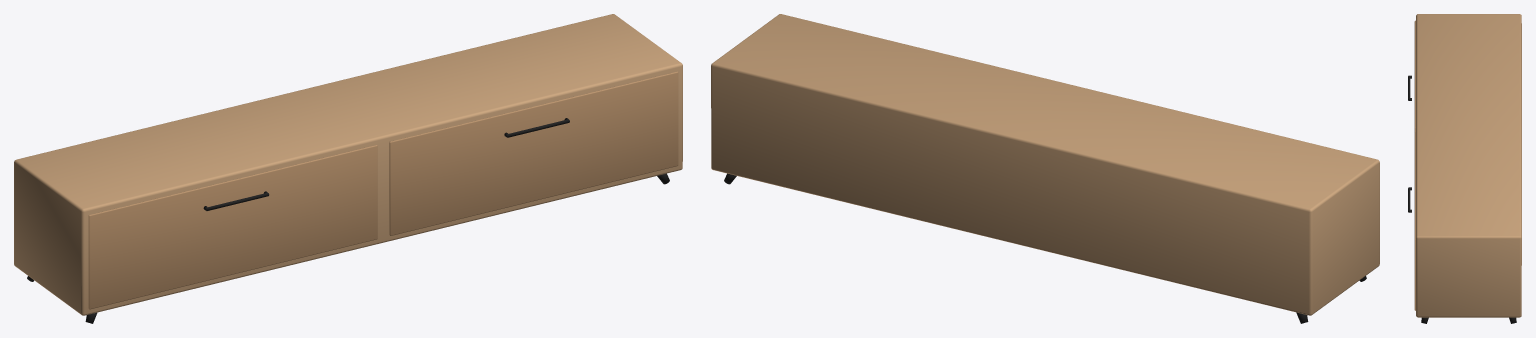
File: living-tvstand.glb
3 views of the same model, side by side, from view 1: azimuth 30°, elevation 25°; view 2: azimuth 150°, elevation 25°; view 3: azimuth 270°, elevation 25° (orthographic). The views are drawn at different scales.
Parts seen in each view (by area): view 1: TVStand__Body, TVStand__Drawers, TVStand__Handles; view 2: TVStand__Body; view 3: TVStand__Body, TVStand__Drawers, TVStand__Handles, TVStand__Legs.
Boxes of the visible parts, box(x1,y1,x2,y2) form: TVStand__Body: box(14, 14, 682, 315); TVStand__Drawers: box(88, 71, 678, 309); TVStand__Handles: box(203, 118, 569, 210); TVStand__Body: box(711, 14, 1379, 315); TVStand__Body: box(1416, 14, 1521, 317); TVStand__Drawers: box(1414, 20, 1415, 310); TVStand__Handles: box(1408, 75, 1411, 212); TVStand__Legs: box(1421, 317, 1516, 323).
Size of the model in its own units: 200 by 38.57 by 43.05.
